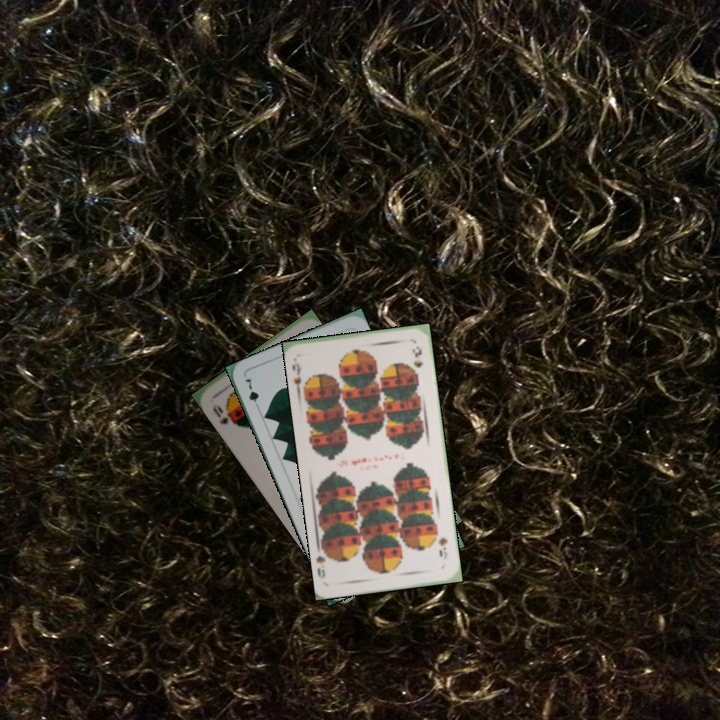G7: (241, 374, 262, 413)
S9: (288, 355, 311, 396), (434, 533, 451, 561)
SO: (209, 400, 231, 427)
